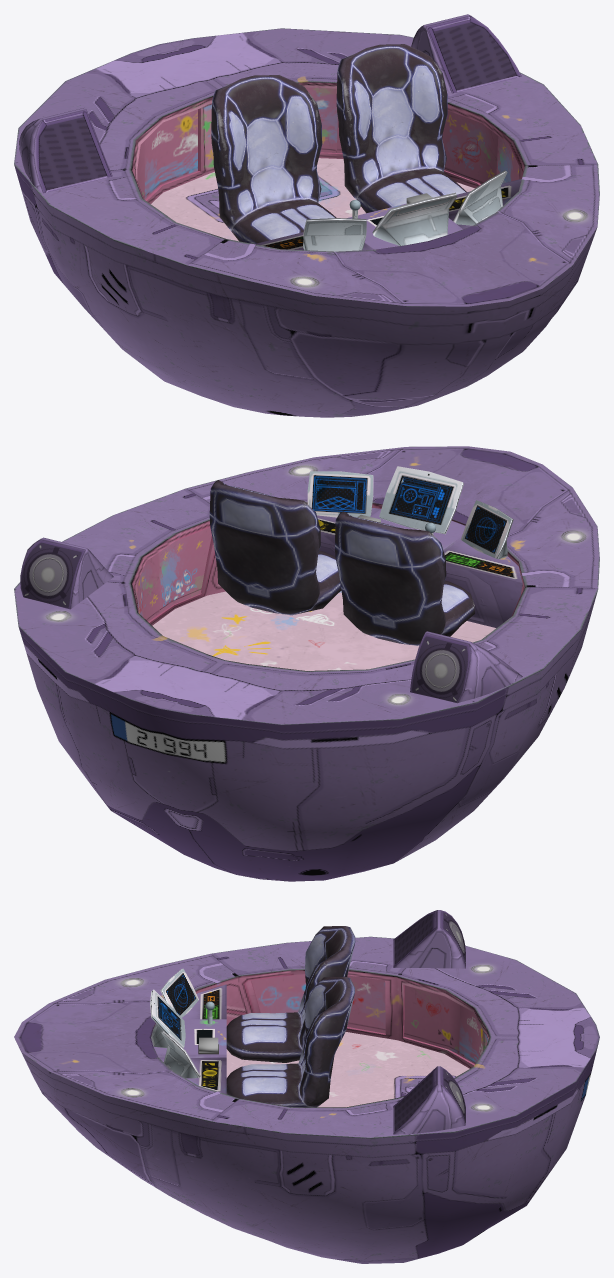
The model's file is Pod_Intro_Spaceship.fbx.
The picture shows the model from 3 angles, top to bottom: view 1: azimuth 30°, elevation 25°; view 2: azimuth 150°, elevation 25°; view 3: azimuth 270°, elevation 25°; orthographic projection. The views are drawn at different scales.
Parts seen in each view (by area): view 1: Spaceship_Body, Spaceship_Seat1, Spaceship_Seat, Spacship_Thrusters, Spaceship_CupboardDoor005, Spaceship_CupboardDoor002, Spaceship_Screen, Spaceship_ControlCentre, Spaceship_Screen2, Spaceship_Screen1, Spaceship_CupboardDoor004, Spaceship_CupboardDoor009; view 2: Spaceship_Body, Spaceship_Seat1, Spaceship_Seat, Spacship_Thrusters, Spaceship_ControlCentre, Spaceship_Screen, Spaceship_CupboardDoor009, Spaceship_Screen1, Spaceship_Screen2, Spaceship_CupboardDoor002; view 3: Spaceship_Body, Spaceship_Seat, Spacship_Thrusters, Spaceship_Seat1, Spaceship_ControlCentre, Spaceship_CupboardDoor006, Spaceship_CupboardDoor007, Spaceship_CupboardDoor008, Spaceship_Screen, Spaceship_Screen2, Spaceship_CupboardDoor005, Spaceship_Screen1.
Part boxes in pixels (x1,y1,x2,y2): Spaceship_Body: [14, 28, 599, 417]; Spaceship_Seat1: [211, 75, 336, 243]; Spaceship_Seat: [336, 44, 466, 213]; Spacship_Thrusters: [19, 14, 521, 193]; Spaceship_CupboardDoor005: [144, 109, 197, 199]; Spaceship_CupboardDoor002: [442, 110, 498, 184]; Spaceship_Screen: [372, 192, 457, 245]; Spaceship_ControlCentre: [254, 179, 521, 250]; Spaceship_Screen2: [303, 218, 366, 251]; Spaceship_Screen1: [453, 170, 507, 225]; Spaceship_CupboardDoor004: [305, 87, 337, 152]; Spaceship_CupboardDoor009: [496, 136, 519, 183]; Spaceship_Body: [14, 446, 599, 881]; Spaceship_Seat1: [335, 511, 474, 645]; Spaceship_Seat: [209, 480, 341, 615]; Spacship_Thrusters: [20, 537, 522, 703]; Spaceship_ControlCentre: [317, 508, 522, 627]; Spaceship_Screen: [379, 466, 463, 534]; Spaceship_CupboardDoor009: [158, 527, 211, 613]; Spaceship_Screen1: [307, 471, 373, 517]; Spaceship_Screen2: [461, 500, 513, 559]; Spaceship_CupboardDoor002: [137, 553, 159, 621]; Spaceship_Body: [14, 936, 599, 1263]; Spaceship_Seat: [226, 977, 354, 1107]; Spacship_Thrusters: [393, 910, 465, 1134]; Spaceship_Seat1: [226, 926, 355, 1062]; Spaceship_ControlCentre: [151, 984, 226, 1094]; Spaceship_CupboardDoor006: [404, 985, 459, 1054]; Spaceship_CupboardDoor007: [347, 975, 385, 1033]; Spaceship_CupboardDoor008: [251, 975, 305, 1013]; Spaceship_Screen: [150, 989, 185, 1048]; Spaceship_Screen2: [160, 968, 198, 1017]; Spaceship_CupboardDoor005: [459, 1005, 482, 1063]; Spaceship_Screen1: [161, 1031, 200, 1078].
Size of the model in its own units: 121 by 79.43 by 149.
Materials: 2 (1 with a texture image).
